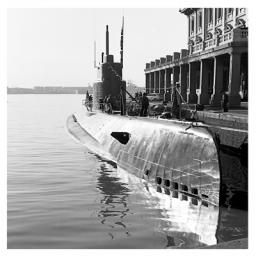submarine: (56, 56, 222, 208)
